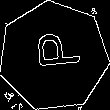P_W: (26, 35, 81, 78)
